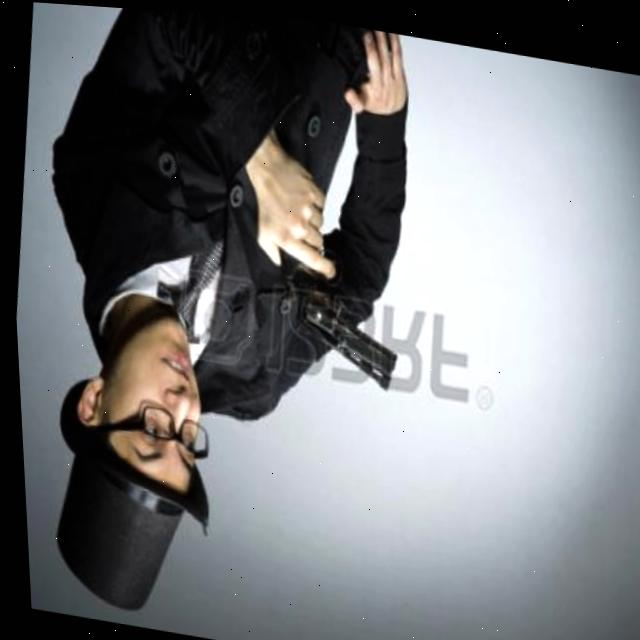pistol: (260, 214, 423, 399)
